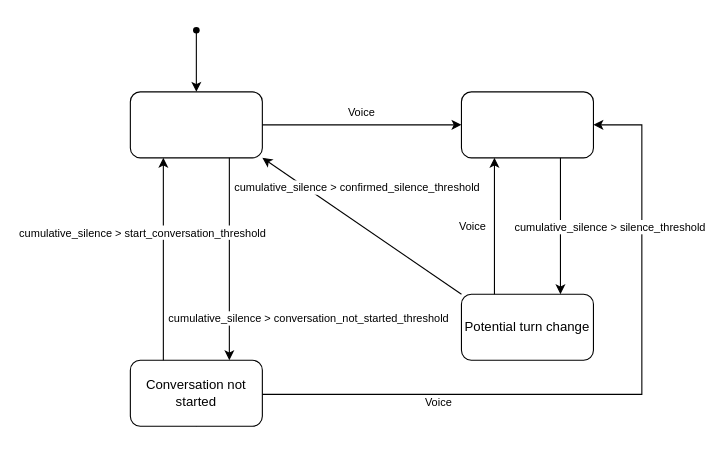
The diagram is 724 pixels wide and 454 high, and some of its shapes have lost their labels. The shapes that lost their labels are listed below. From the top down, each one's centre as x and y in pixels, then its label:
(195,124): Not started
(526,124): Started
